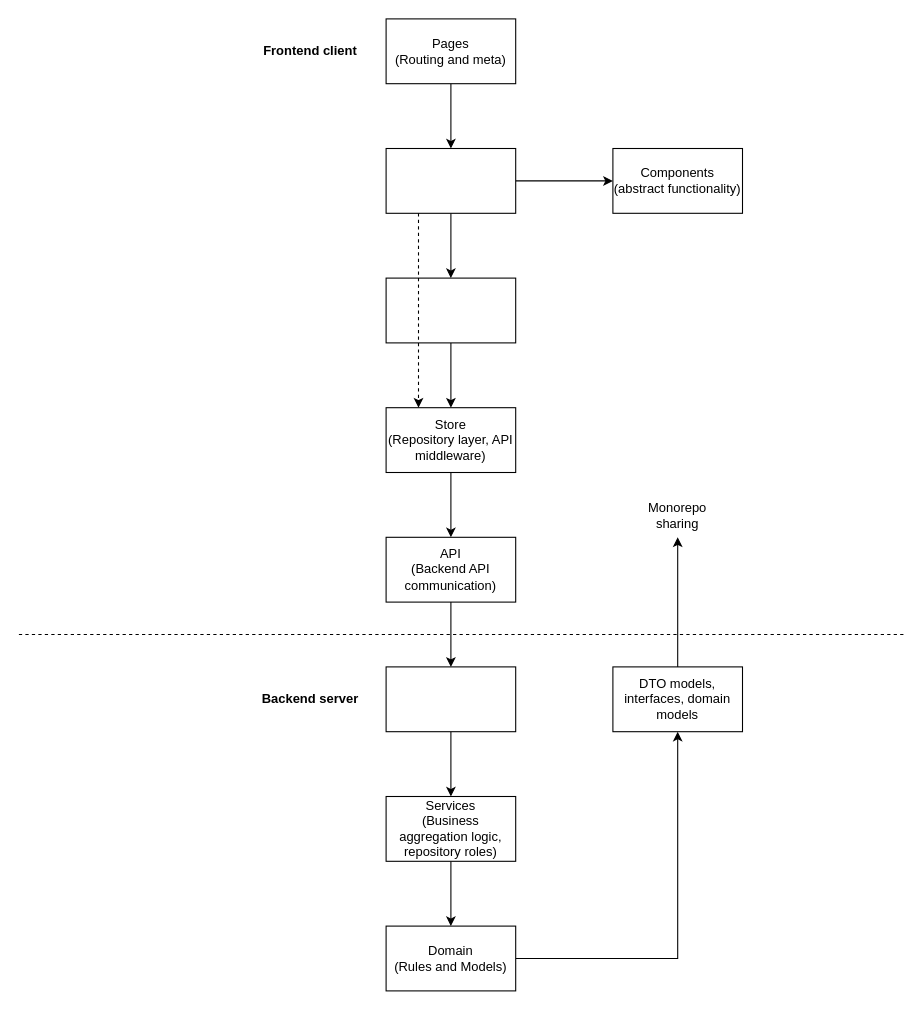
This 924x1010 diagram has some shape labels left out. Here are the shapes that lost their labels. From the top down, the centre of each, then its label:
At point (450, 180): "Containers (Domain aggregation logic)".
At point (450, 310): "Services (Presentation logic)".
At point (450, 699): "Controllers (CRUD API Endpoints)".
